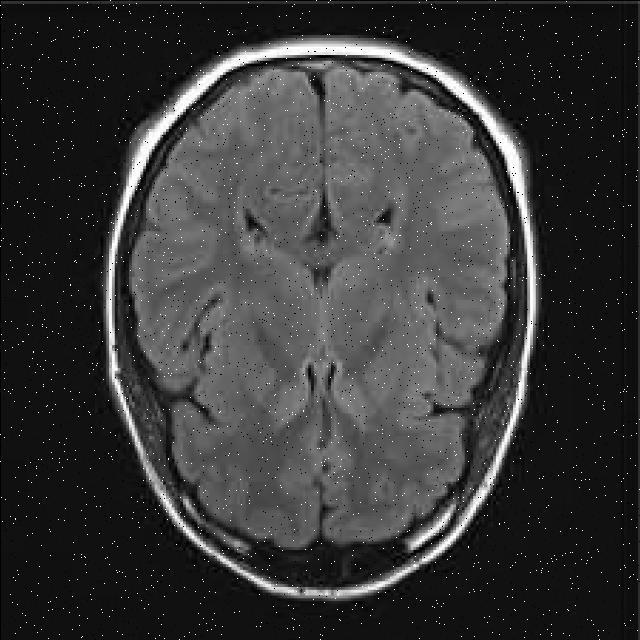No_Tumor: (106, 39, 538, 599)
